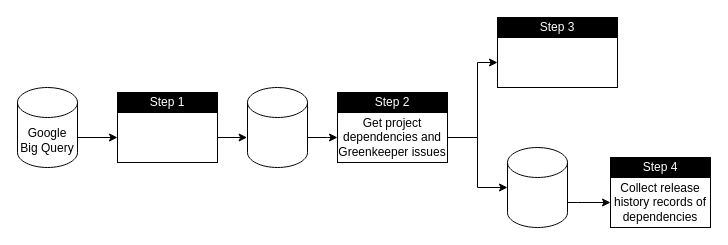
Some shapes in this 728 by 245 pixel diagram are drawn without their labels. The shapes that lost their labels are listed below. From the top down, each one's centre as x and y in pixels, then its label:
At (557,62): "Get issue comments, events, and referenced commits".
At (167,137): "Find projects that have integrated with Greenkeeper".
At (277,127): "GitHub API".
At (537,187): "Libraries.io".
